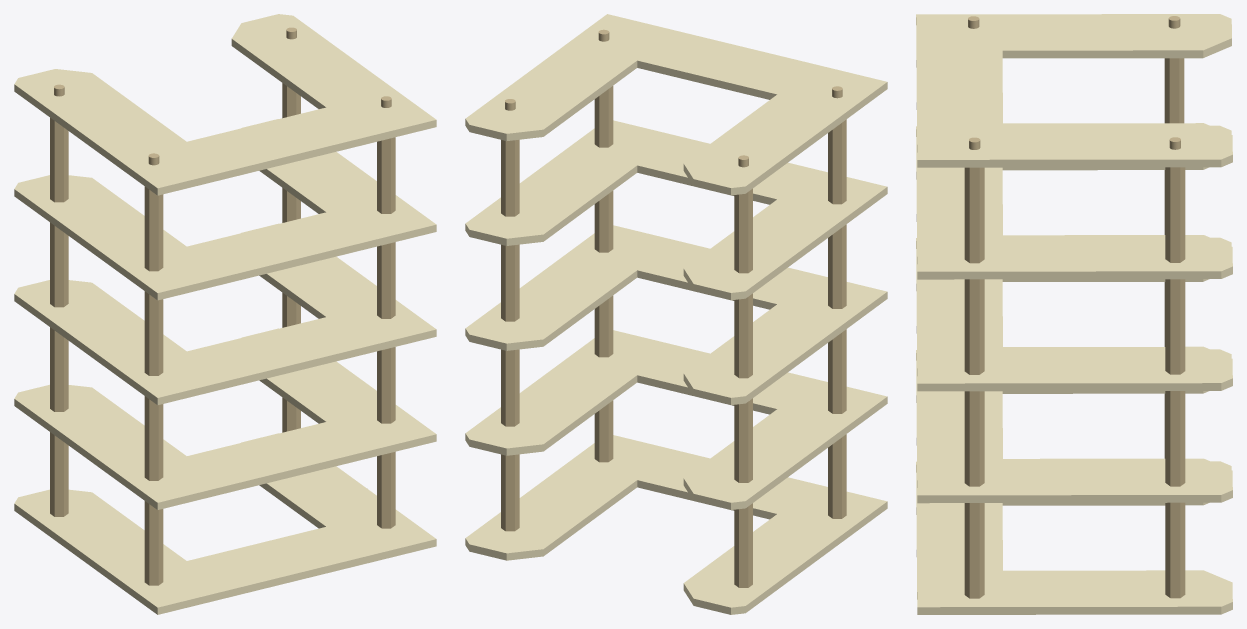
File: tray_unity.fbx
3 renders of one model, left to right at view 1: azimuth 30°, elevation 25°; view 2: azimuth 150°, elevation 25°; view 3: azimuth 270°, elevation 25°, orthographic. The views are drawn at different scales.
Visible parts, largest first — view 1: 솔리드1.002; view 2: 솔리드1.002; view 3: 솔리드1.002.
Boxes of the visible parts, x1,y1,x2,y2 form: 솔리드1.002: (14,14,436,614); 솔리드1.002: (465,14,887,614); 솔리드1.002: (916,14,1232,614).
Size of the model in its own units: 12.04 by 17.8 by 11.04.
